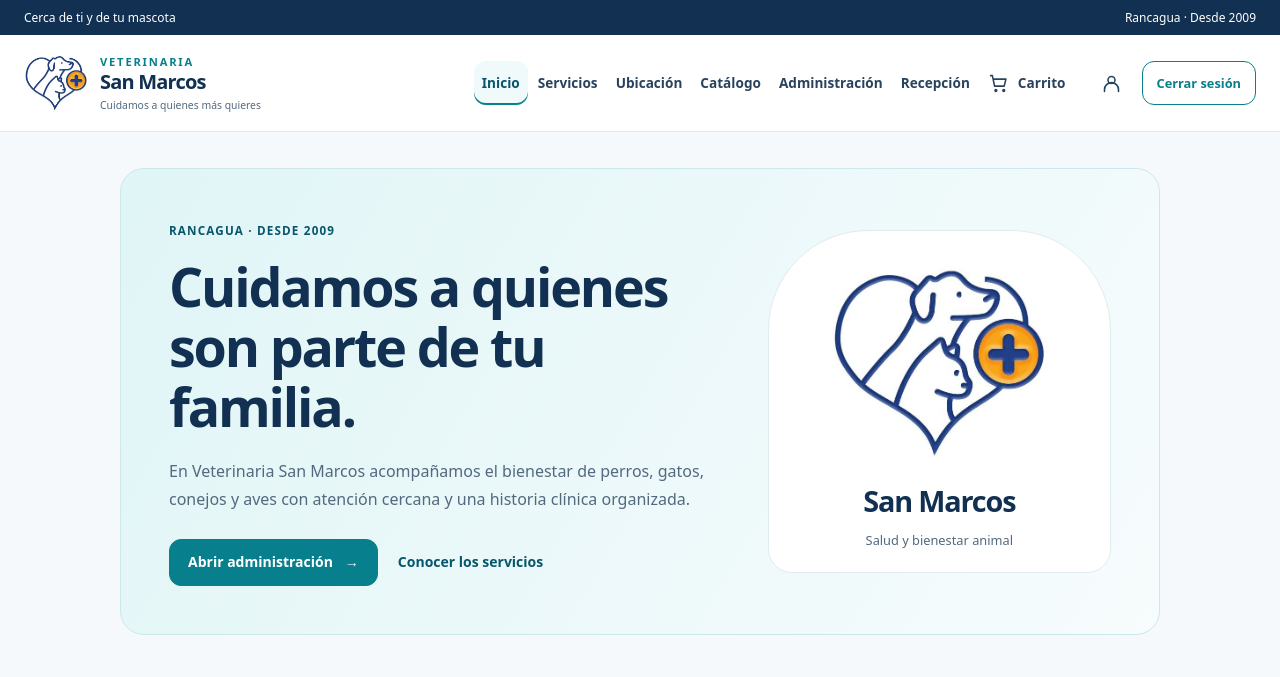
Test case: Acceso a las portadas de los paneles › abre administración desde el navbar y conserva el acceso a la gestión
Click the link "Administración" at point(831, 83), box x1=779 y1=73 x2=883 y2=92
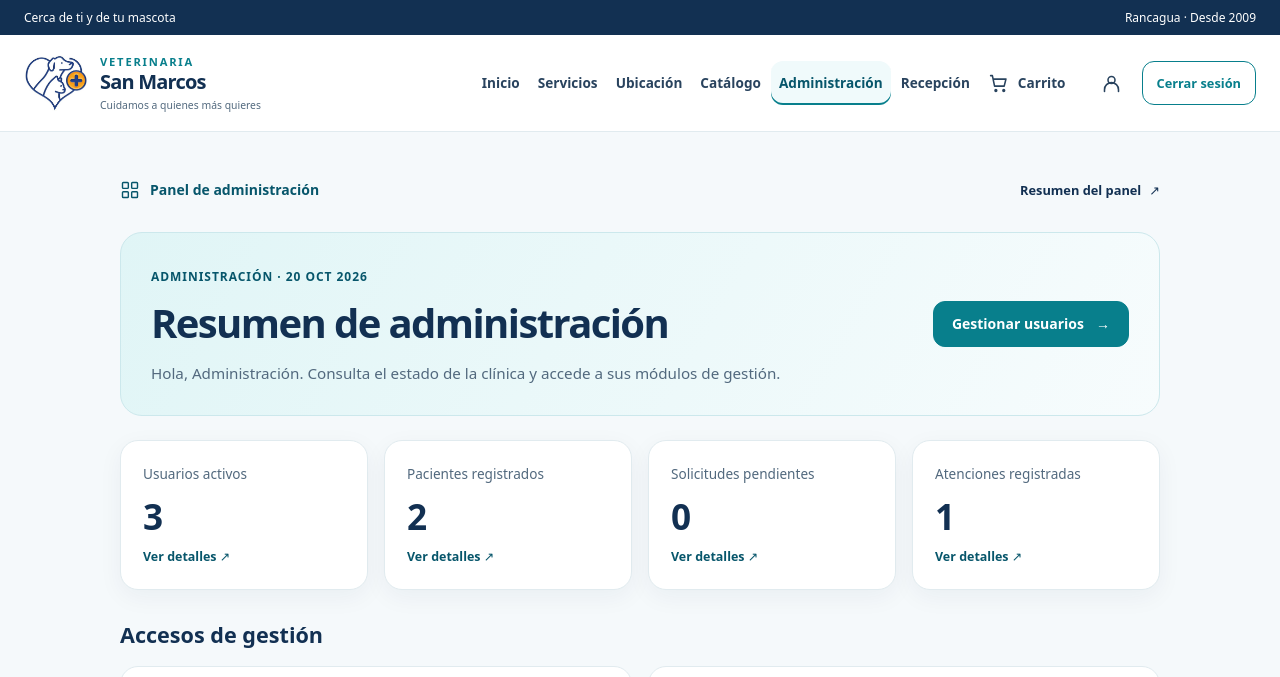
Expected: the heading "Resumen de administración" is shown, x1=151 y1=295 x2=668 y2=350
Click the button "Cerrar sesión" at point(1199, 83), box x1=1142 y1=61 x2=1256 y2=105
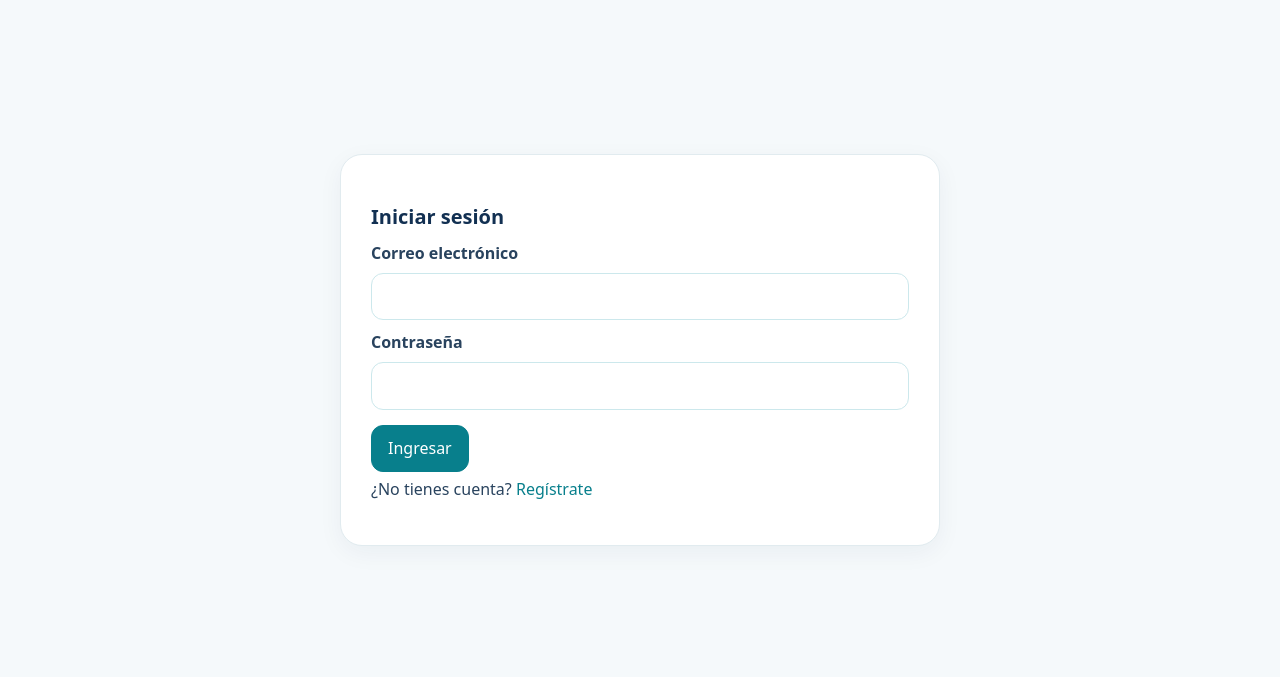
Expected: the heading "Iniciar sesión" is shown, x1=371 y1=203 x2=504 y2=230
